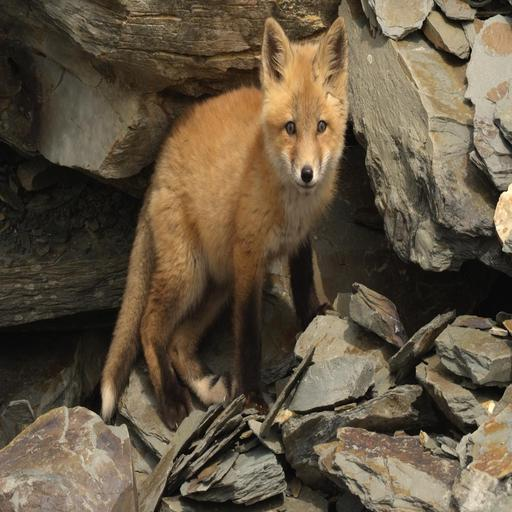Fox: (88, 15, 360, 435)
